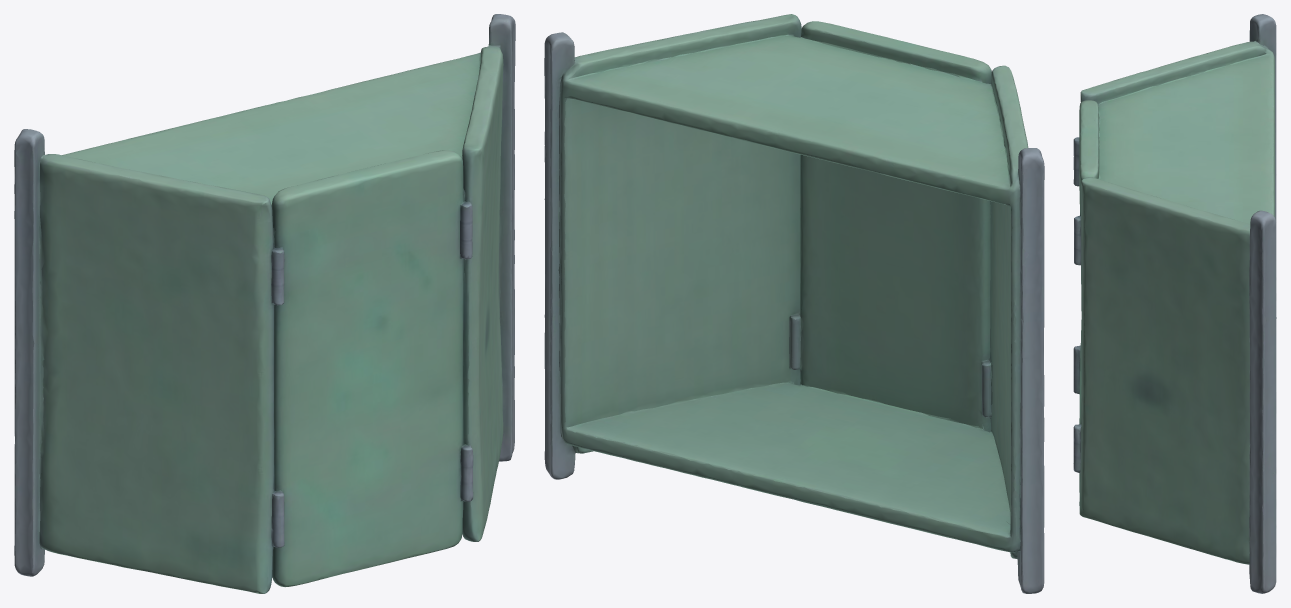
Rendered from screen.glb.
3 renders of one model, left to right at view 1: azimuth 30°, elevation 25°; view 2: azimuth 150°, elevation 25°; view 3: azimuth 270°, elevation 25°, orthographic. The views are drawn at different scales.
Visible parts, largest first — view 1: Mesh; view 2: Mesh; view 3: Mesh.
Boxes of the visible parts, x1=… form: Mesh: x1=14, y1=14, x2=515, y2=593; Mesh: x1=544, y1=14, x2=1044, y2=593; Mesh: x1=1073, y1=14, x2=1276, y2=593.
Bounding box in the file's own units: 1.92 × 1.62 × 0.7904.
1 material, 1 textured.
